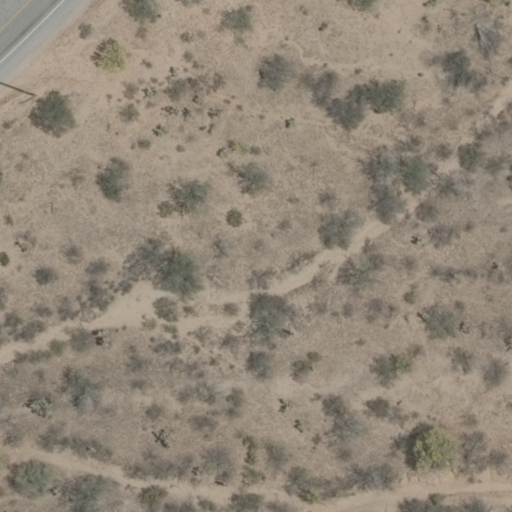DT: (12, 85, 40, 107)
